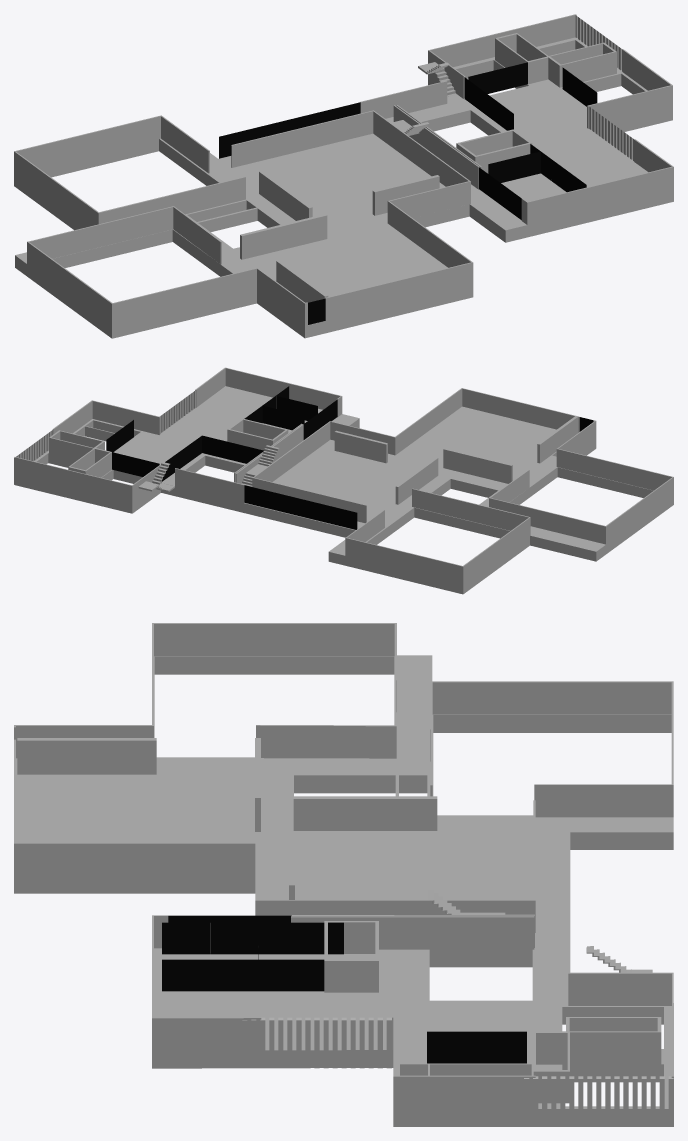
Rendered from piso3.fbx.
3 views of the same model, one above another, from view 1: azimuth 30°, elevation 25°; view 2: azimuth 150°, elevation 25°; view 3: azimuth 270°, elevation 25° (orthographic). The views are drawn at different scales.
Visible parts, largest first — view 1: piso_0_3; view 2: piso_0_3; view 3: piso_0_3.
Part boxes in pixels (<box>): piso_0_3: <box>14,14,673,338</box>; piso_0_3: <box>14,367,673,594</box>; piso_0_3: <box>14,623,673,1126</box>.
Size of the model in its own units: 9036 by 600 by 5552.
1 material, 1 textured.
